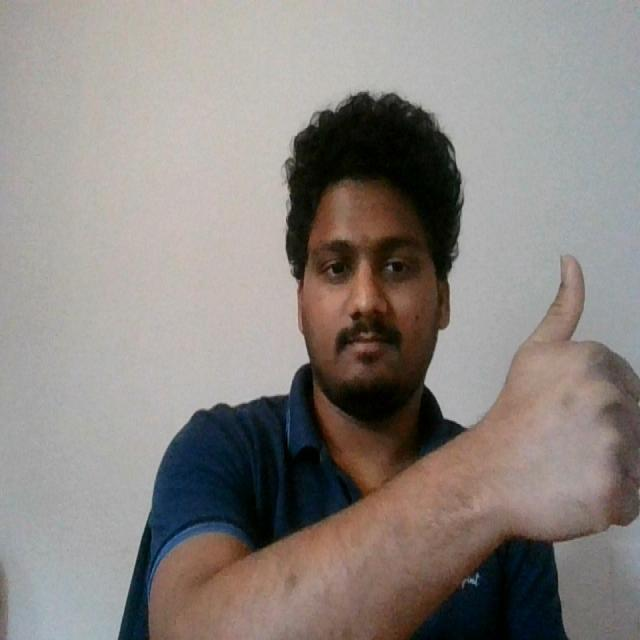Yes: (476, 245, 640, 556)
